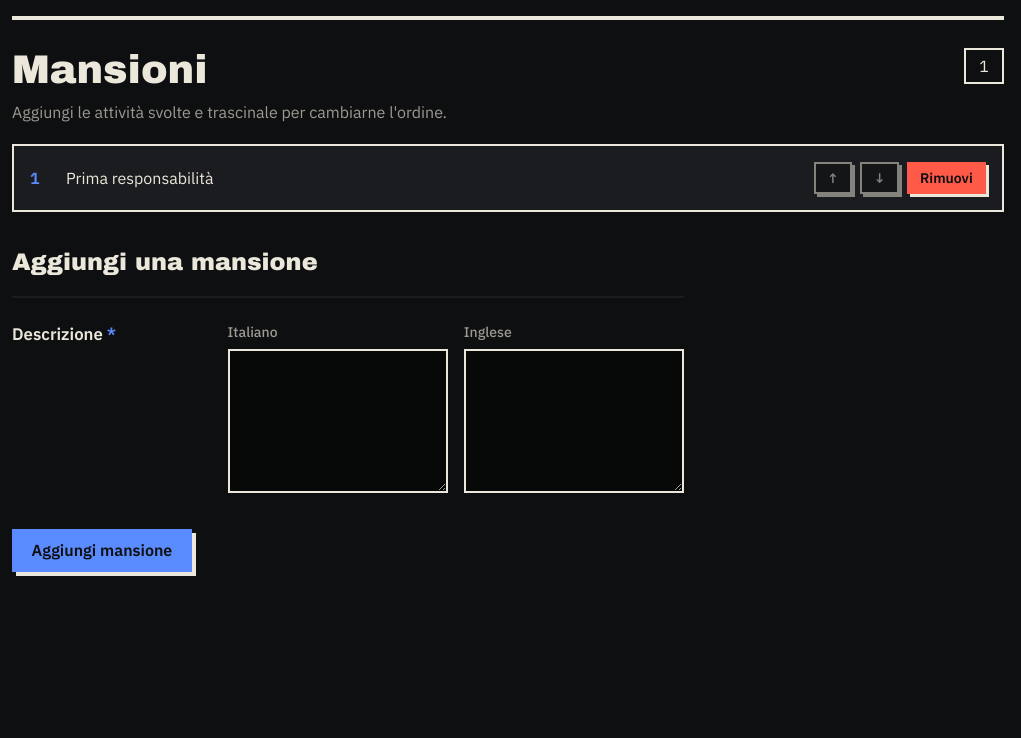
Test: WorkResponsibilities › creates a translated responsibility for the current experience
Expected: the text "Prima responsabilità" is shown, [66, 166, 214, 190]
Step 1. Type "Nuova attività" into the text box labelled "Italiano" → (338, 421), box [228, 349, 448, 493]
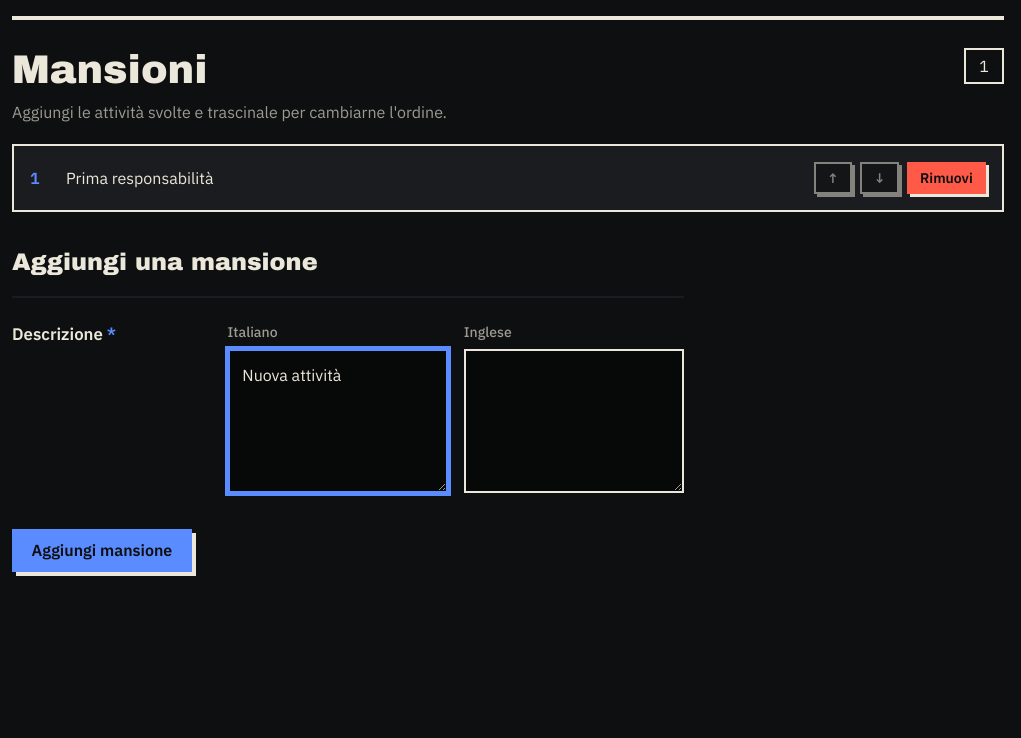
Step 2. Type "New responsibility" into the text box labelled "Inglese" → (574, 421), box [464, 349, 684, 493]
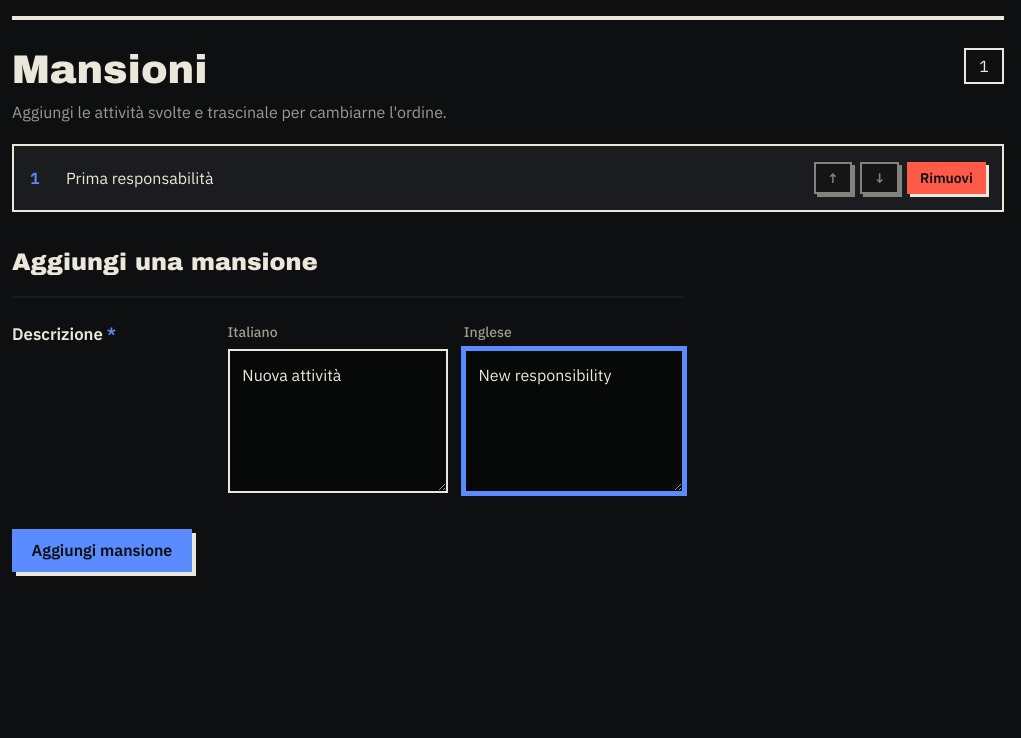
Step 3. Click the button "Aggiungi mansione" → click(102, 551), box [12, 529, 192, 572]
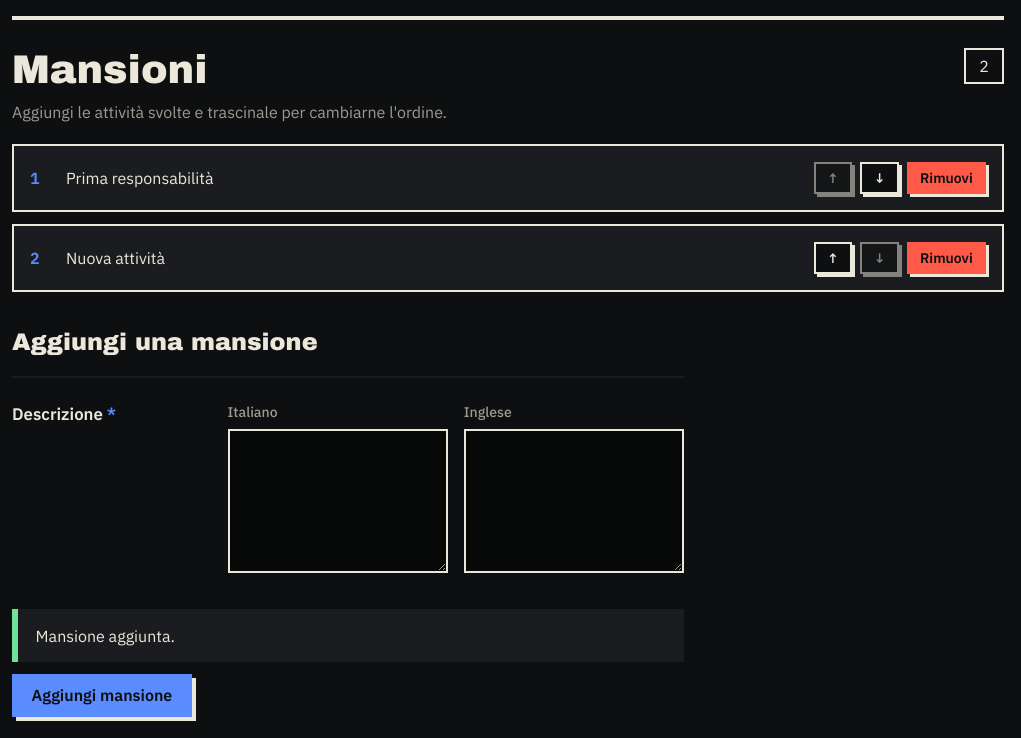
Now the text "Nuova attività" is shown, box [66, 246, 165, 270]
